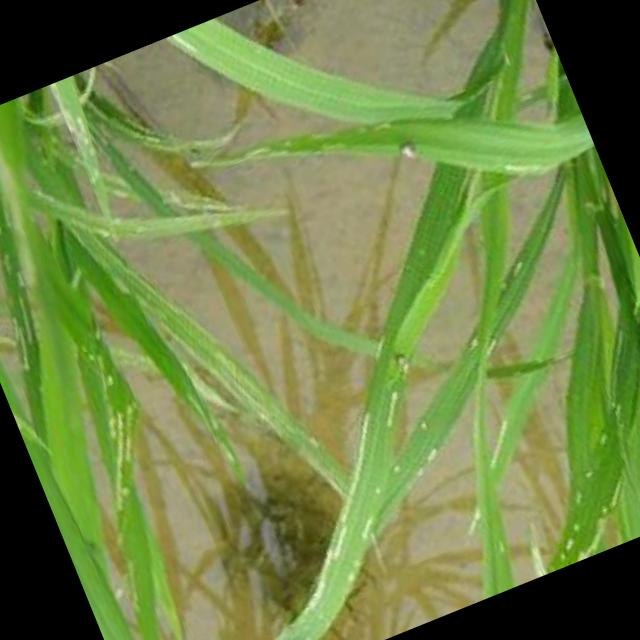rice-bug: (397, 136, 421, 166), (391, 349, 412, 374)
